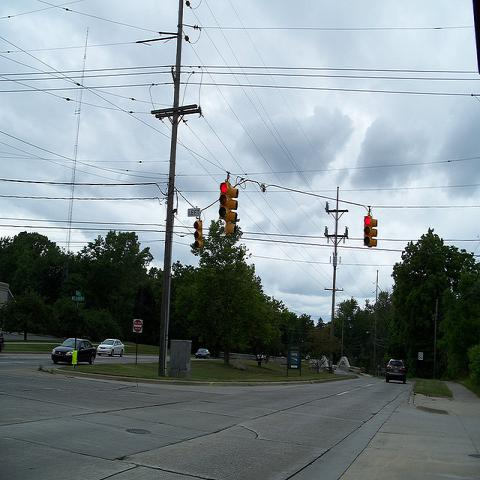car: (51, 338, 97, 365), (384, 359, 409, 384), (97, 339, 125, 357), (195, 348, 210, 359)
